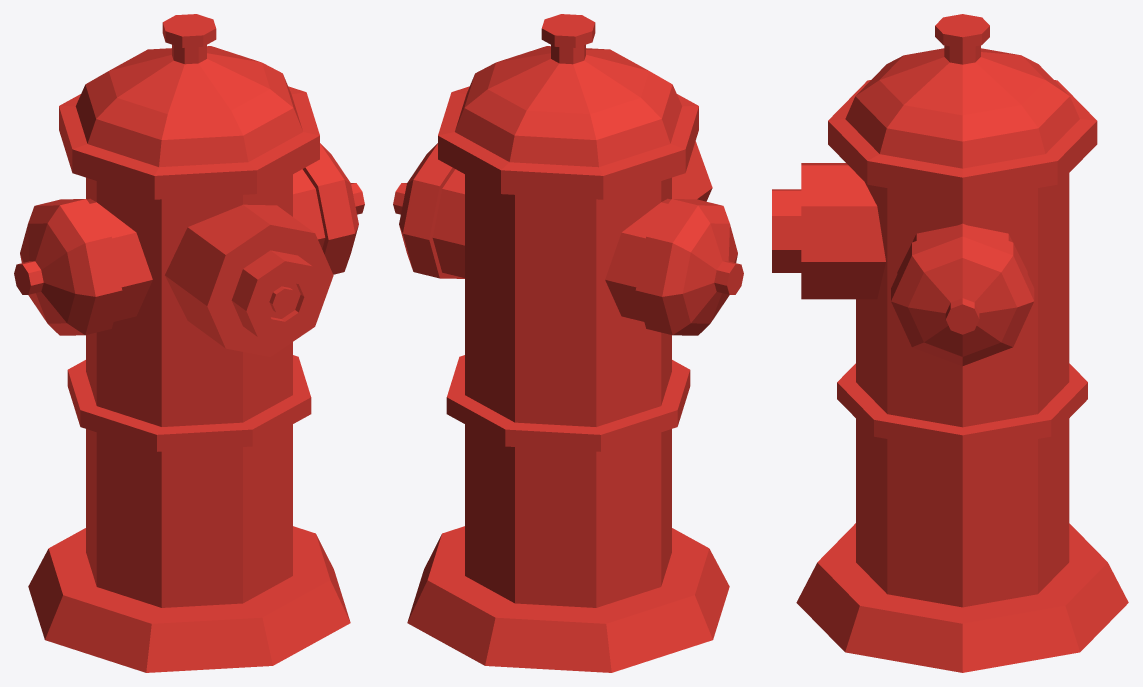
The model's file is Hydrant.fbx.
3 views of the same model, side by side, from view 1: azimuth 30°, elevation 25°; view 2: azimuth 150°, elevation 25°; view 3: azimuth 270°, elevation 25° (orthographic).
Visible parts, largest first — view 1: Hydrant; view 2: Hydrant; view 3: Hydrant.
Part boxes in pixels (bbox=[...]): Hydrant: bbox=[14, 14, 364, 672]; Hydrant: bbox=[393, 14, 743, 672]; Hydrant: bbox=[772, 14, 1128, 672].
Size of the model in its own units: 44.33 by 73.5 by 41.18.
